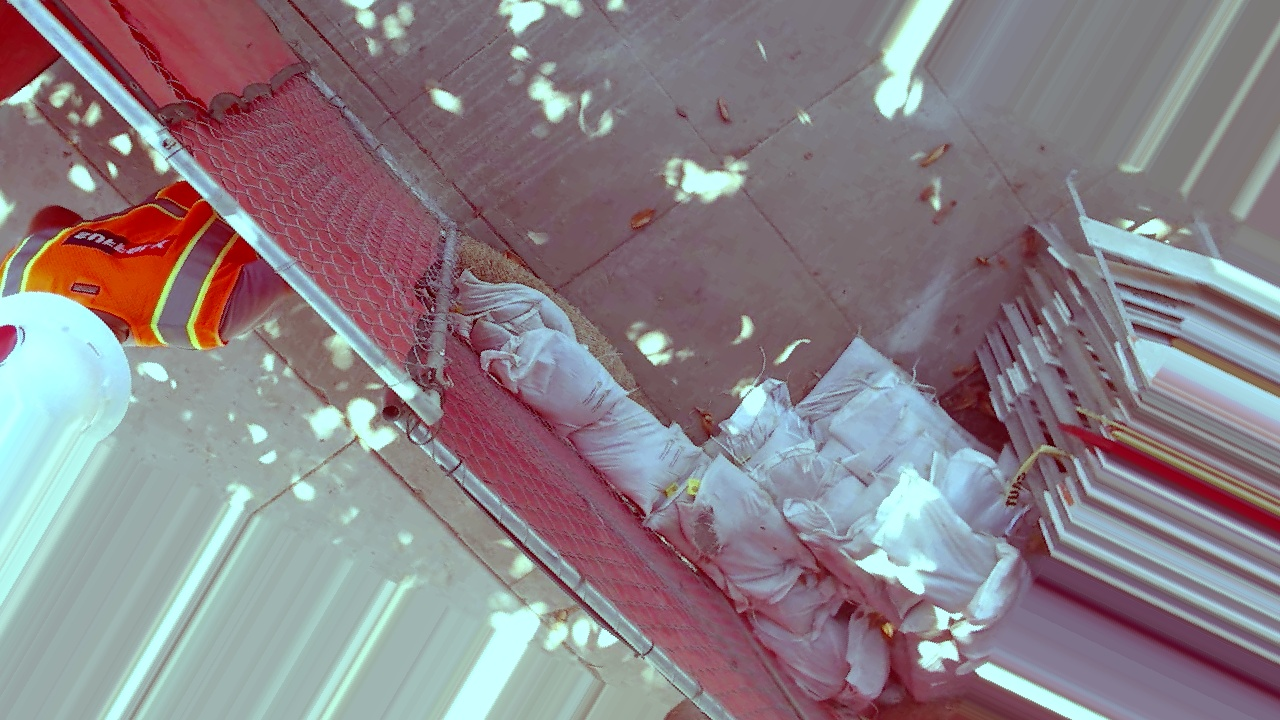green: (247, 1, 317, 43)
hardhat: (182, 1, 363, 68)
person: (208, 1, 549, 241)
safetyvest: (212, 1, 489, 159)
